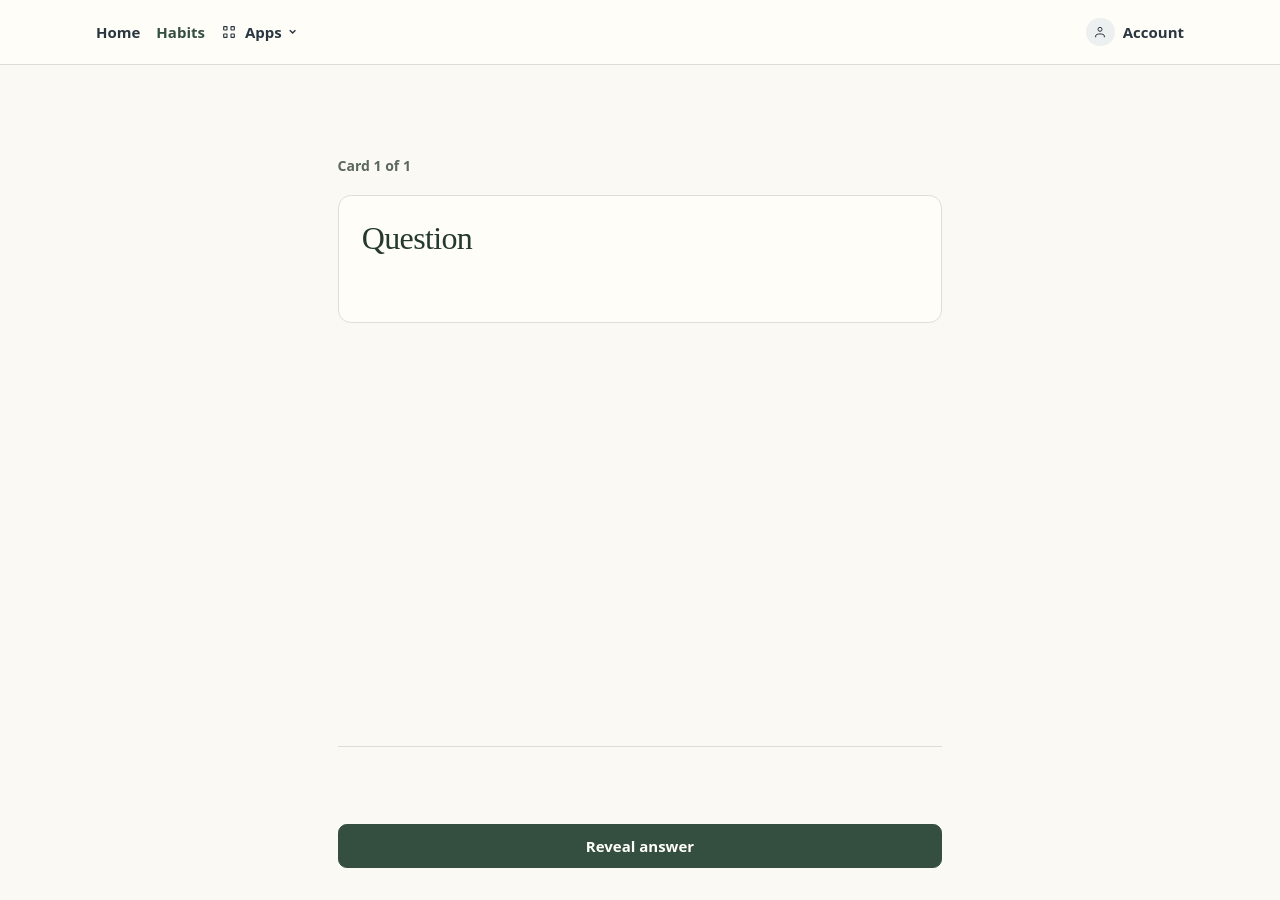
review completes directly at /recall/, with replay after a lost completion response
Click the button "Reveal answer".
click(640, 846)  # box [338,824,942,868]
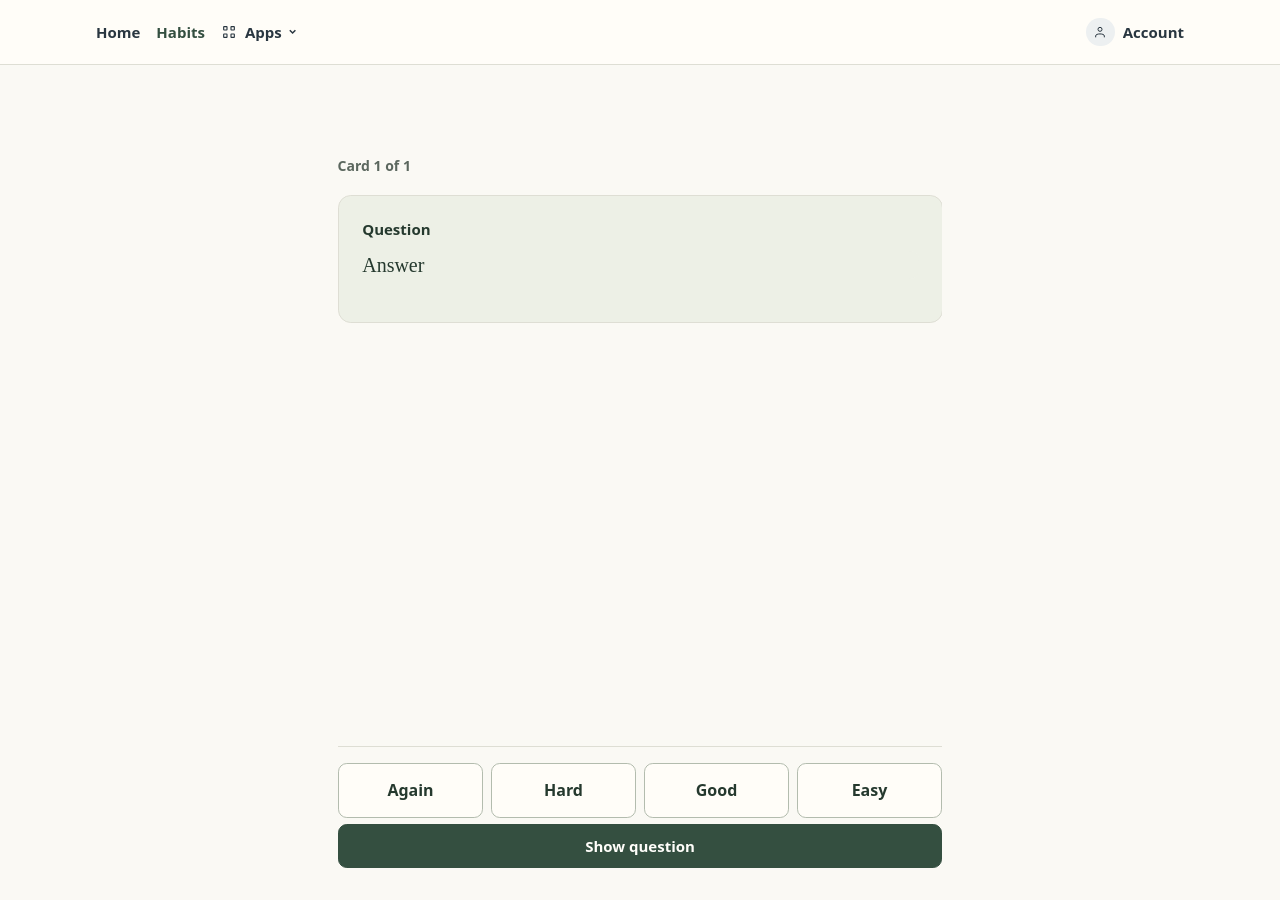
Result: the button "Good" is shown
Click the button "Good".
click(716, 790)  # box [644,763,789,818]
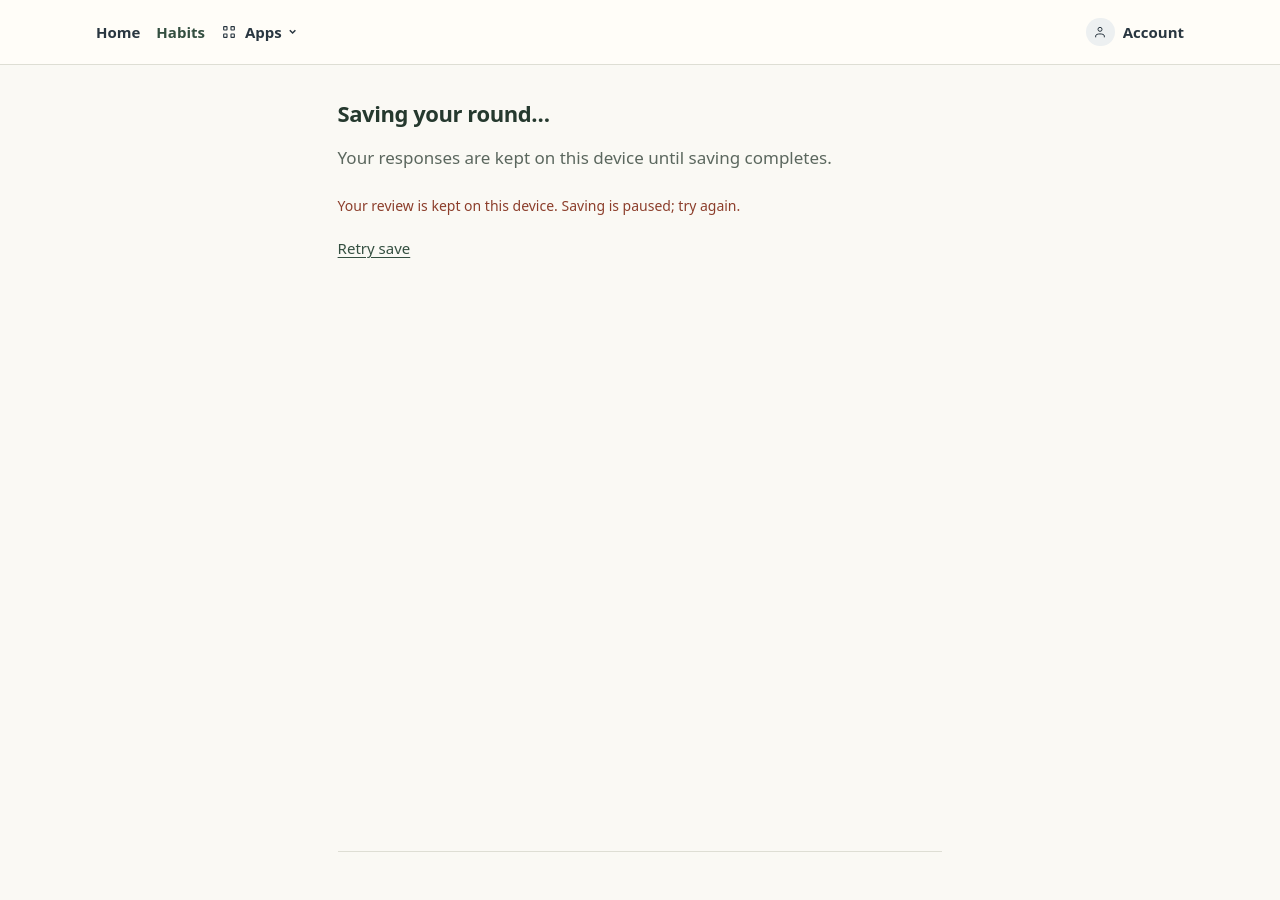
Expected: the text "Saved." is not shown
Result: the button "Retry save" is shown
Click the button "Retry save".
click(374, 248)  # box [338,226,410,270]
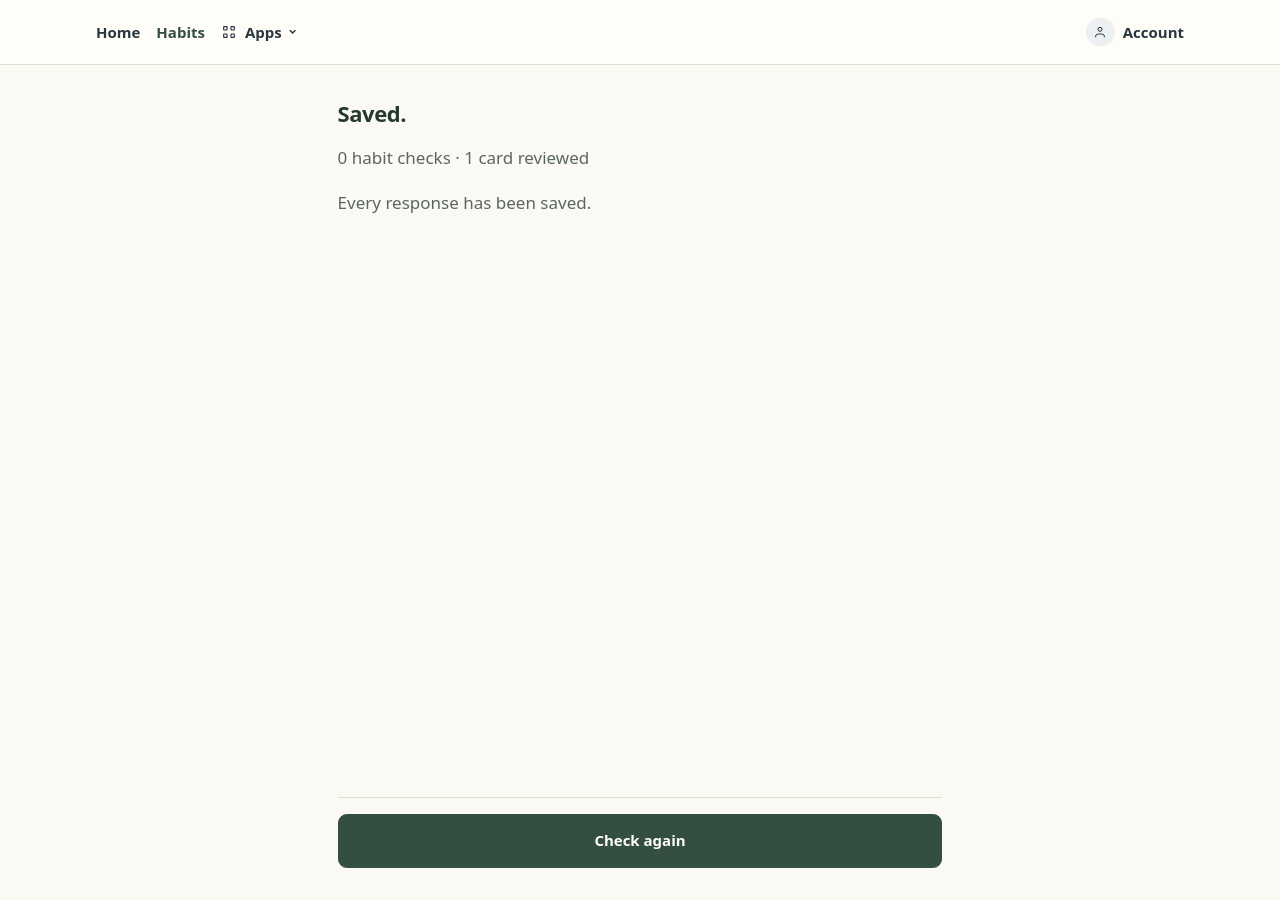
Result: the text "Saved." is shown at [338,98,406,128]
